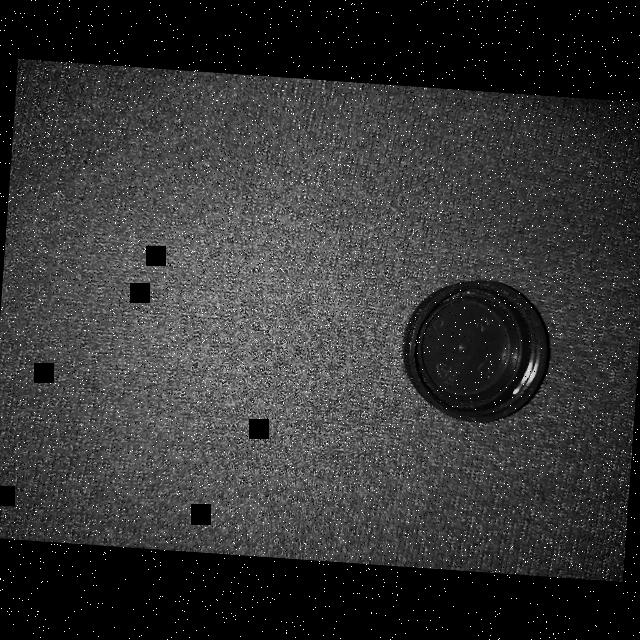plastic_bottle_cap: (398, 273, 553, 427)
